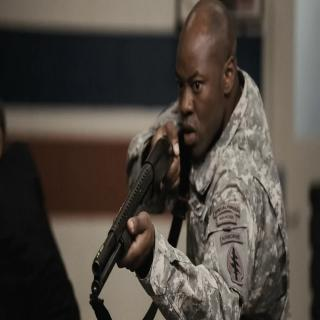gun: (90, 127, 181, 298)
